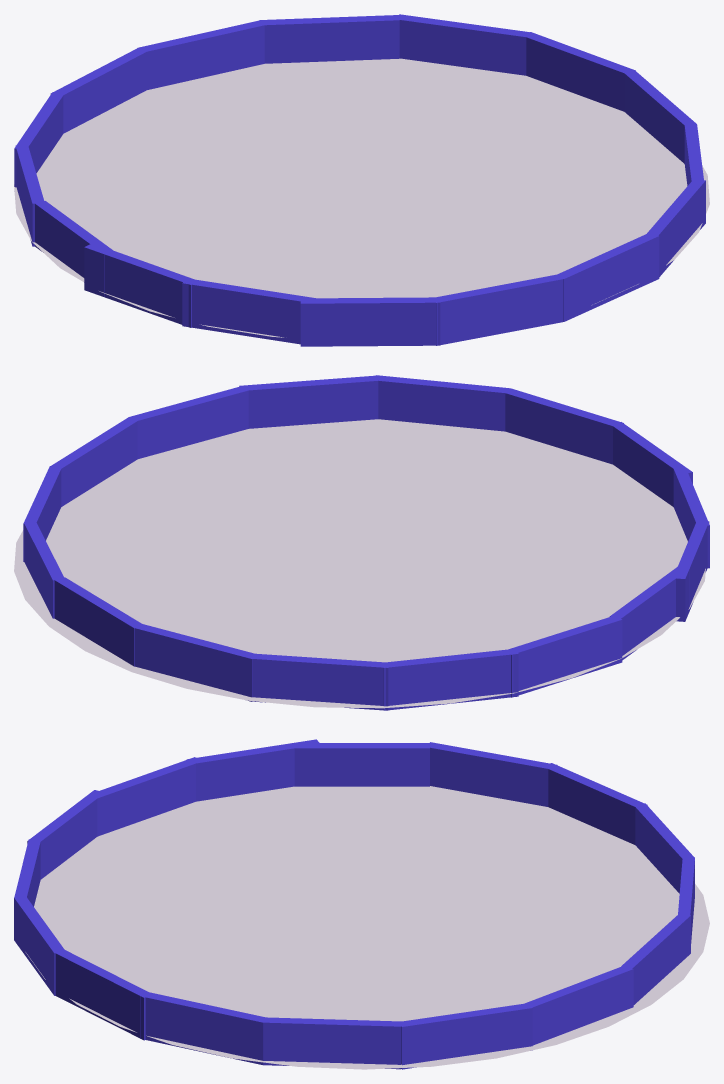
Rendered from stage_field_collider.fbx.
The picture shows the model from 3 angles, top to bottom: view 1: azimuth 30°, elevation 25°; view 2: azimuth 150°, elevation 25°; view 3: azimuth 270°, elevation 25°; orthographic projection.
Parts seen in each view (by area): view 1: 円柱, Cube.013, Cube.012, Cube.005, Cube.014, Cube.006, Cube.004, Cube.015, Cube.011, Cube.007, Cube.003, Cube.008 (+5 smaller); view 2: 円柱, Cube.002, Cube.003, Cube.010, Cube.011, Cube.004, Cube.001, Cube.009, Cube.012, Cube.005, Cube.008, Cube.013 (+5 smaller); view 3: 円柱, Cube.008, Cube, Cube.007, Cube.009, Cube.001, Cube.006, Cube.014, Cube.010, Cube.015, Cube.002, Cube.005 (+5 smaller).
Part boxes in pixels (box(x1,y1,x2,y2)): 円柱: box(14, 58, 709, 337); Cube.013: box(300, 297, 440, 346); Cube.012: box(436, 274, 563, 345); Cube.005: box(260, 15, 399, 63); Cube.014: box(182, 279, 317, 344); Cube.006: box(398, 14, 530, 75); Cube.004: box(137, 20, 265, 89); Cube.015: box(84, 244, 198, 327); Cube.011: box(555, 234, 659, 321); Cube.007: box(523, 32, 635, 111); Cube.003: box(50, 48, 146, 133); Cube.008: box(624, 71, 696, 163); 円柱: box(14, 419, 705, 708); Cube.002: box(383, 649, 518, 710); Cube.003: box(252, 653, 389, 710); Cube.010: box(239, 375, 378, 428); Cube.011: box(376, 375, 510, 431); Cube.004: box(134, 623, 257, 701); Cube.001: box(504, 616, 622, 697); Cube.009: box(128, 385, 250, 458); Cube.012: box(505, 388, 623, 464); Cube.005: box(54, 577, 141, 666); Cube.008: box(51, 417, 138, 506); Cube.013: box(611, 422, 692, 506); 円柱: box(25, 786, 709, 1069); Cube.008: box(263, 1017, 401, 1069); Cube: box(291, 743, 429, 786); Cube.007: box(398, 1003, 532, 1069); Cube.009: box(140, 991, 268, 1065); Cube.001: box(427, 742, 557, 806); Cube.006: box(523, 966, 633, 1045); Cube.014: box(89, 757, 202, 836); Cube.010: box(55, 950, 150, 1040); Cube.015: box(186, 739, 319, 801); Cube.002: box(545, 763, 647, 844); Cube.005: box(621, 915, 690, 1004).
Bounding box in the file's own units: 1000 × 68 × 1007.
